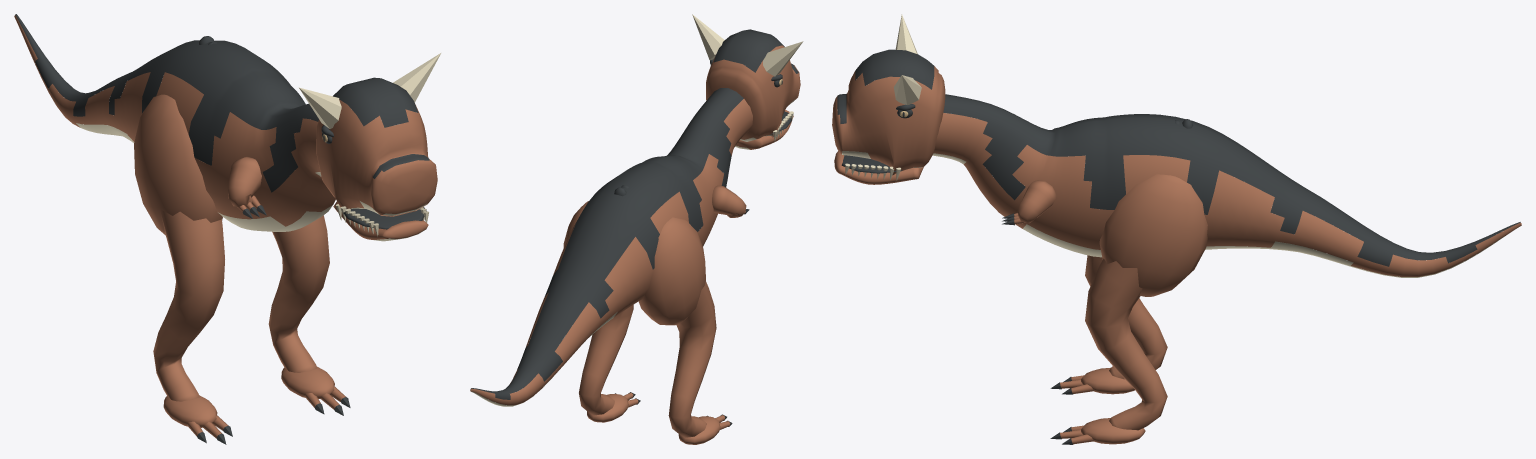
File: primeval-frontier-carnotaurus-545e46a9__1686.glb
3 renders of one model, left to right at view 1: azimuth 30°, elevation 25°; view 2: azimuth 150°, elevation 25°; view 3: azimuth 270°, elevation 25°, orthographic. The views are drawn at different scales.
Visible parts, largest first — view 1: carnotaurus; view 2: carnotaurus; view 3: carnotaurus.
Part boxes in pixels (box(x1,y1,x2,y2)): carnotaurus: box(14, 14, 440, 444); carnotaurus: box(470, 14, 803, 444); carnotaurus: box(832, 14, 1521, 444).
Size of the model in its own units: 1.54 by 3.89 by 6.53.
